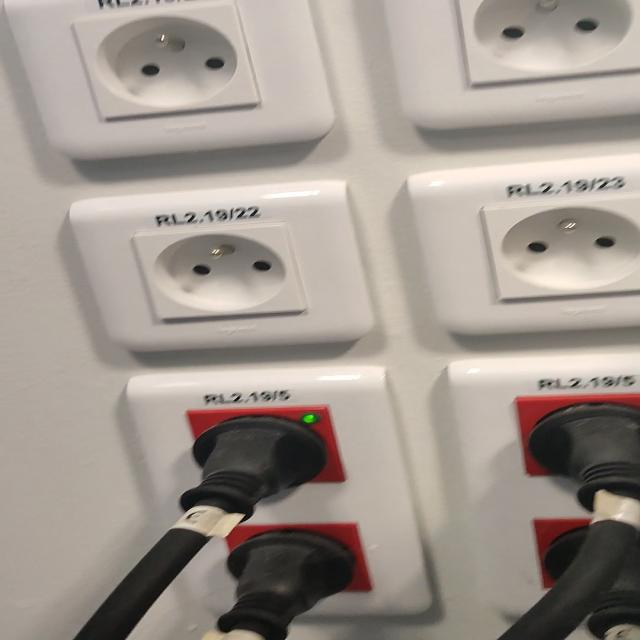house plug: (73, 2, 258, 121), (132, 224, 305, 319), (484, 198, 640, 299), (458, 0, 640, 85)
